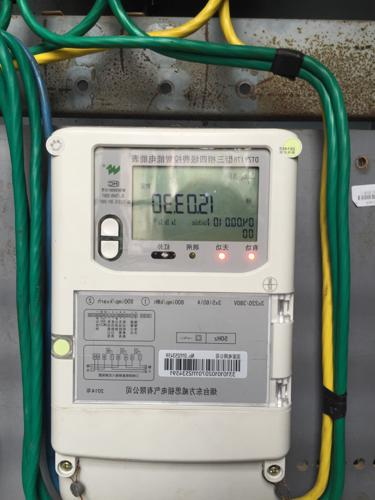digital: (50, 126, 295, 462)
